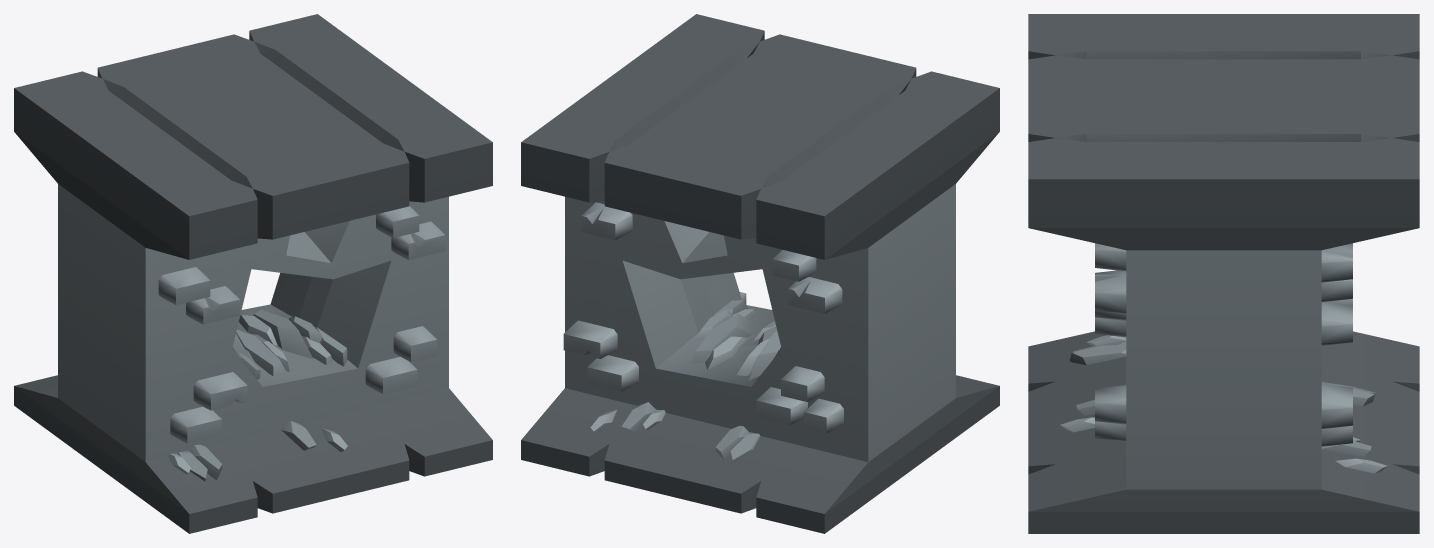
File: wall_broken.glb
The picture shows the model from 3 angles, left to right: view 1: azimuth 30°, elevation 25°; view 2: azimuth 150°, elevation 25°; view 3: azimuth 270°, elevation 25°; orthographic projection. The views are drawn at different scales.
Visible parts, largest first — view 1: wall_broken; view 2: wall_broken; view 3: wall_broken.
Part boxes in pixels (<box>): wall_broken: <box>14,14,492,533</box>; wall_broken: <box>521,14,999,533</box>; wall_broken: <box>1028,14,1419,533</box>.
Bounding box in the file's own units: 1 × 1 × 1.
Materials: 1 (1 with a texture image).
